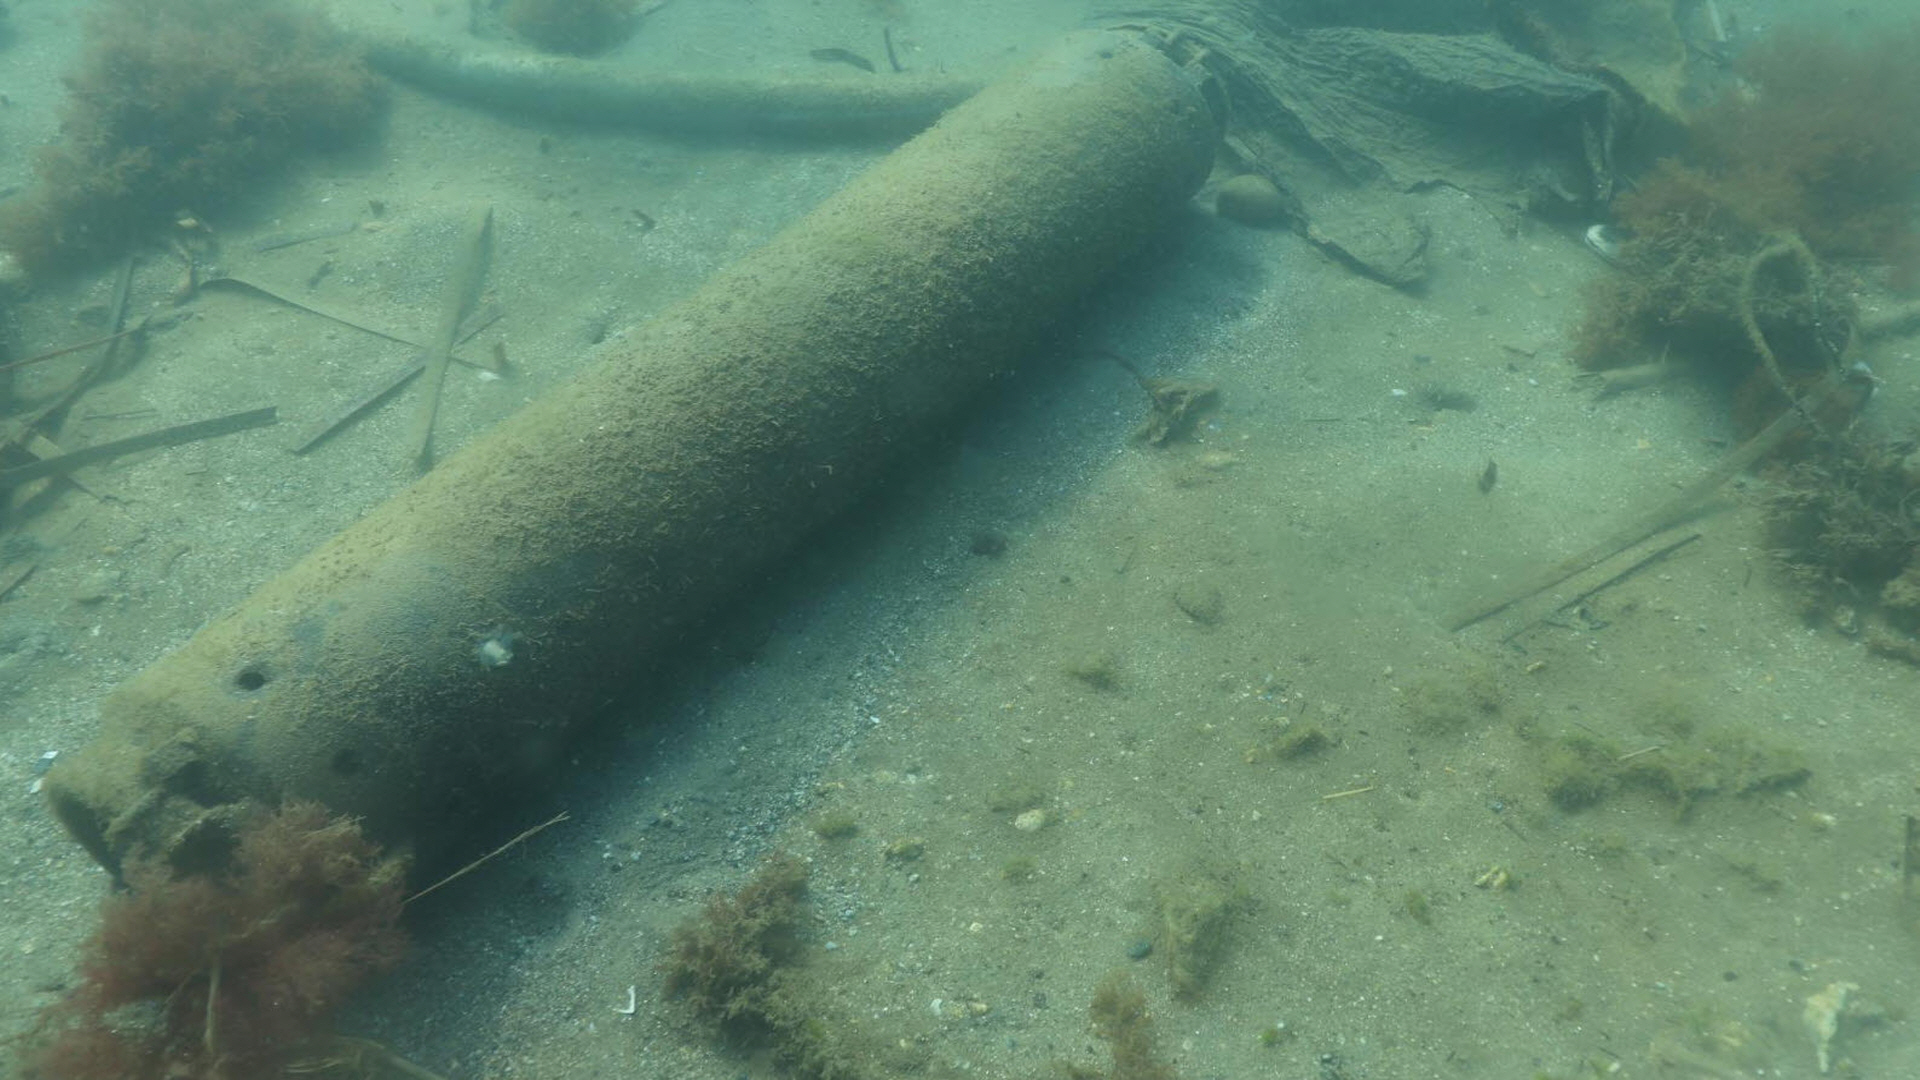eel fish trap: (40, 24, 1225, 895)
